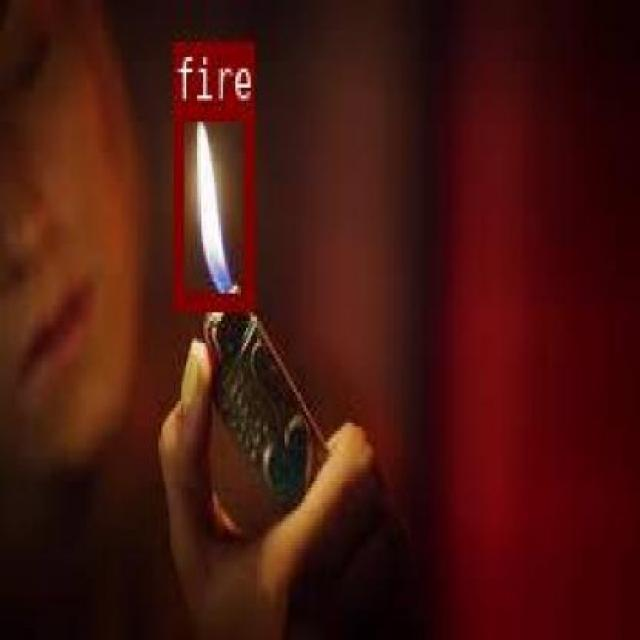Fire: (186, 127, 234, 293)
